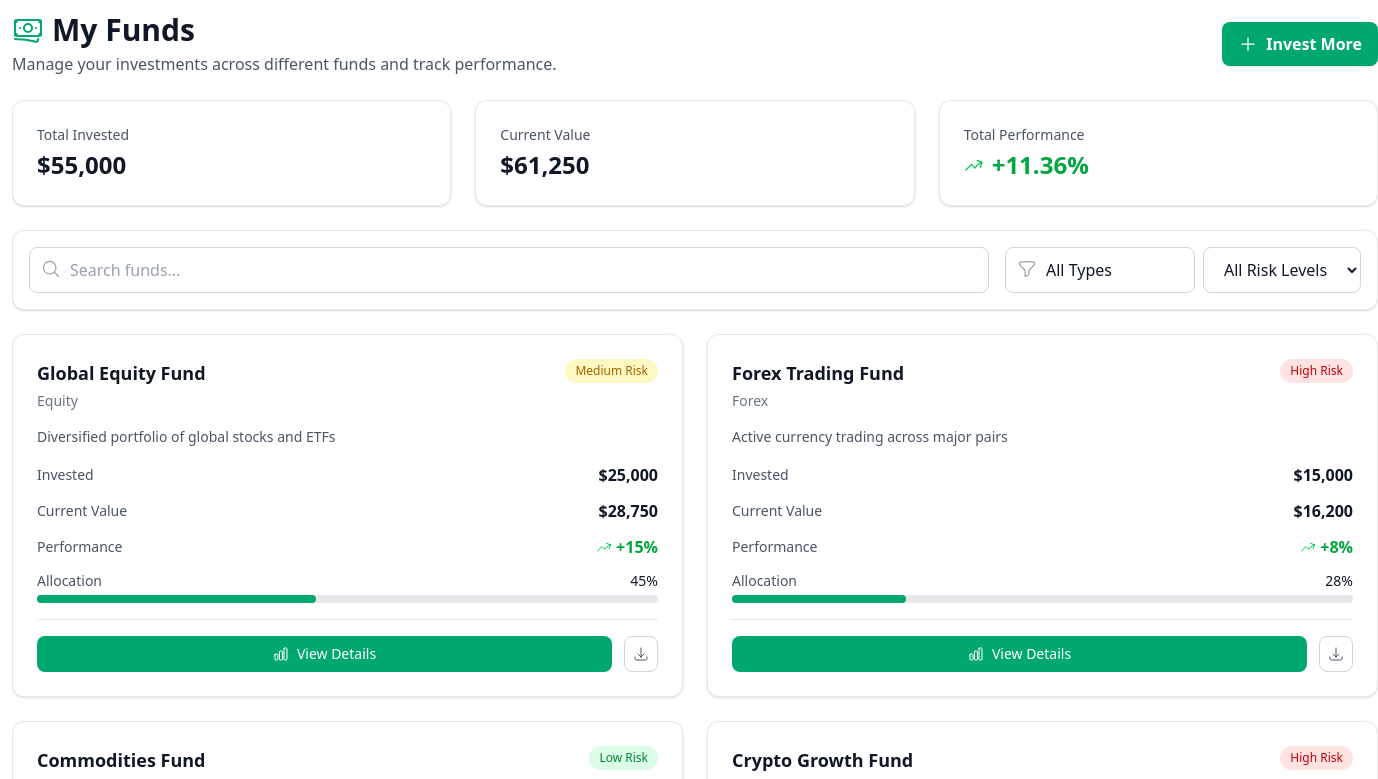
FundsPage › shows an empty state when no funds match the filters
Step 1. Type "nonexistent fund" into the field with placeholder "Search funds..." → (509, 270), box [29,247,989,293]
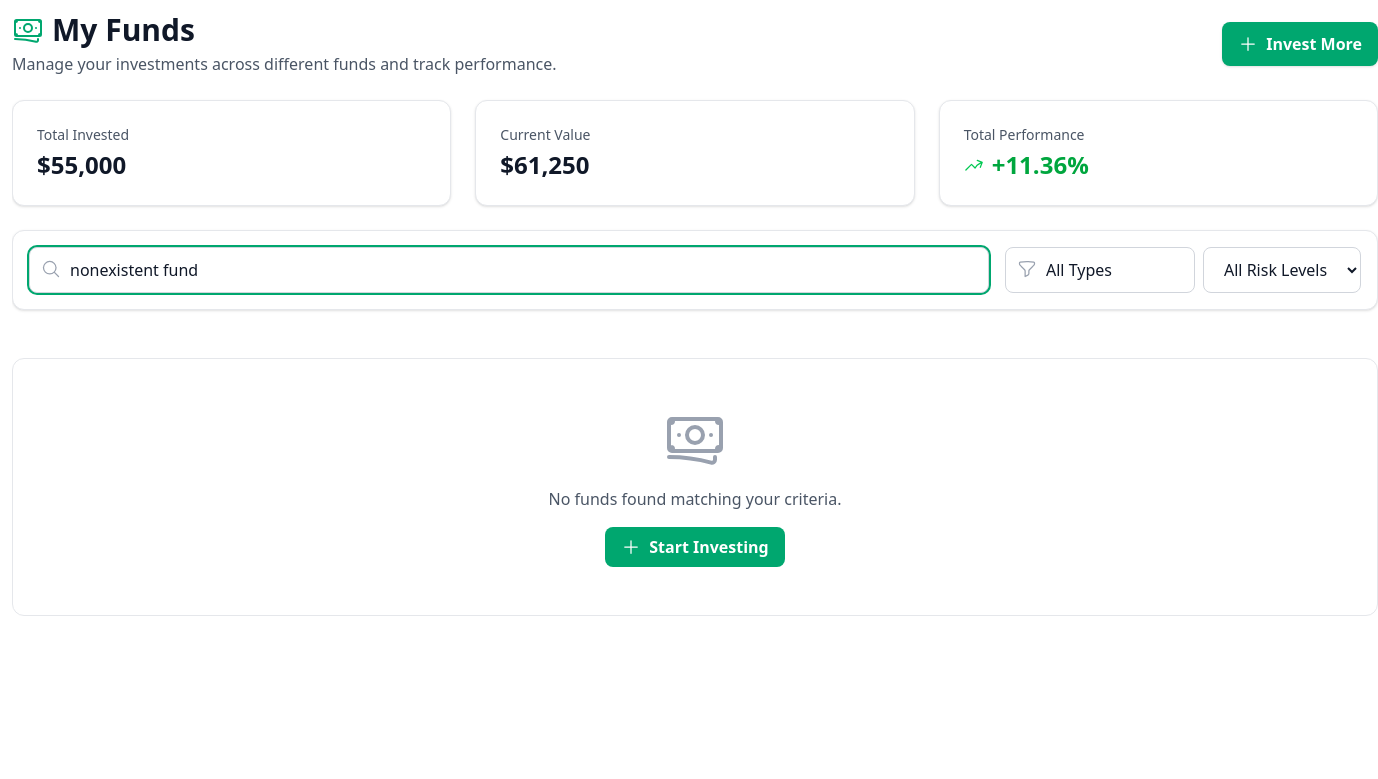
Expected: the text "No funds found matching your criteria." is shown, [548,488,841,510]
